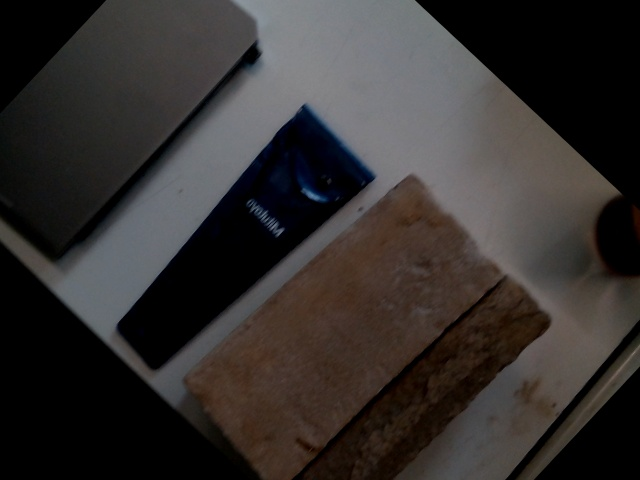brick: (183, 177, 503, 479)
